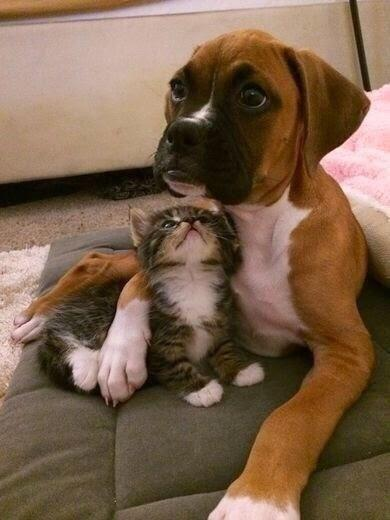kedo: (37, 201, 265, 408)
